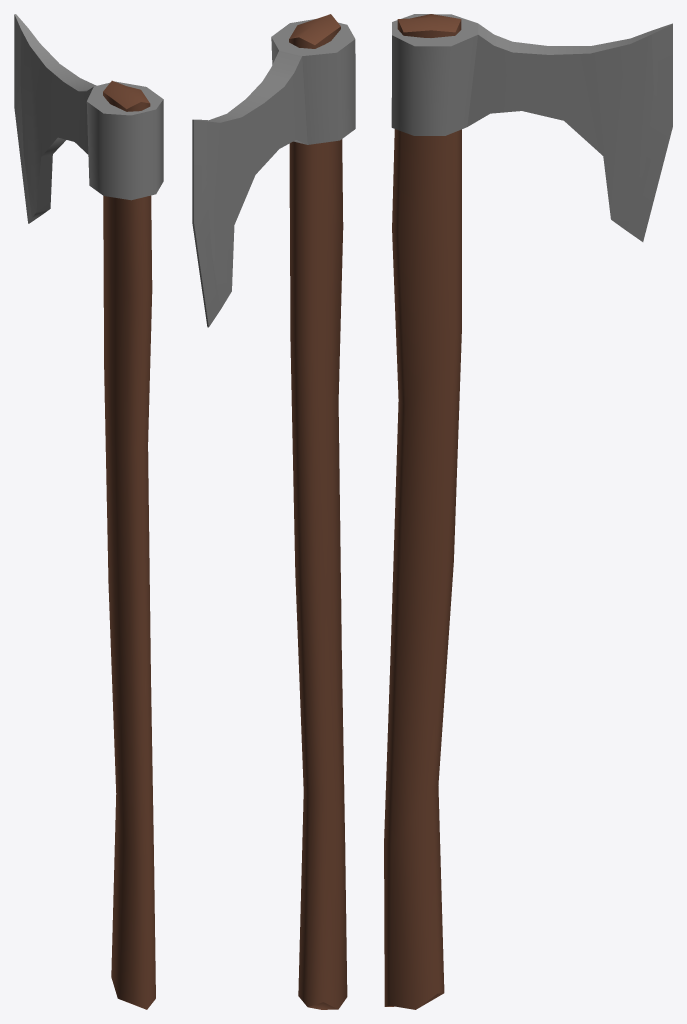
Rendered from axe.glb.
The picture shows the model from 3 angles, left to right: view 1: azimuth 30°, elevation 25°; view 2: azimuth 150°, elevation 25°; view 3: azimuth 270°, elevation 25°; orthographic projection. The views are drawn at different scales.
Visible parts, largest first — view 1: Cube, Cylinder.001; view 2: Cube, Cylinder.001; view 3: Cube, Cylinder.001.
Boxes of the visible parts, left/top/right/bottom form: Cube: left=103, top=80, right=155, bottom=1009; Cylinder.001: left=14, top=14, right=163, bottom=223; Cube: left=289, top=14, right=347, bottom=1009; Cylinder.001: left=192, top=19, right=355, bottom=327; Cube: left=384, top=14, right=461, bottom=1009; Cylinder.001: left=391, top=14, right=672, bottom=241.
Size of the model in its own units: 0.0492 by 0.7099 by 0.1879.
